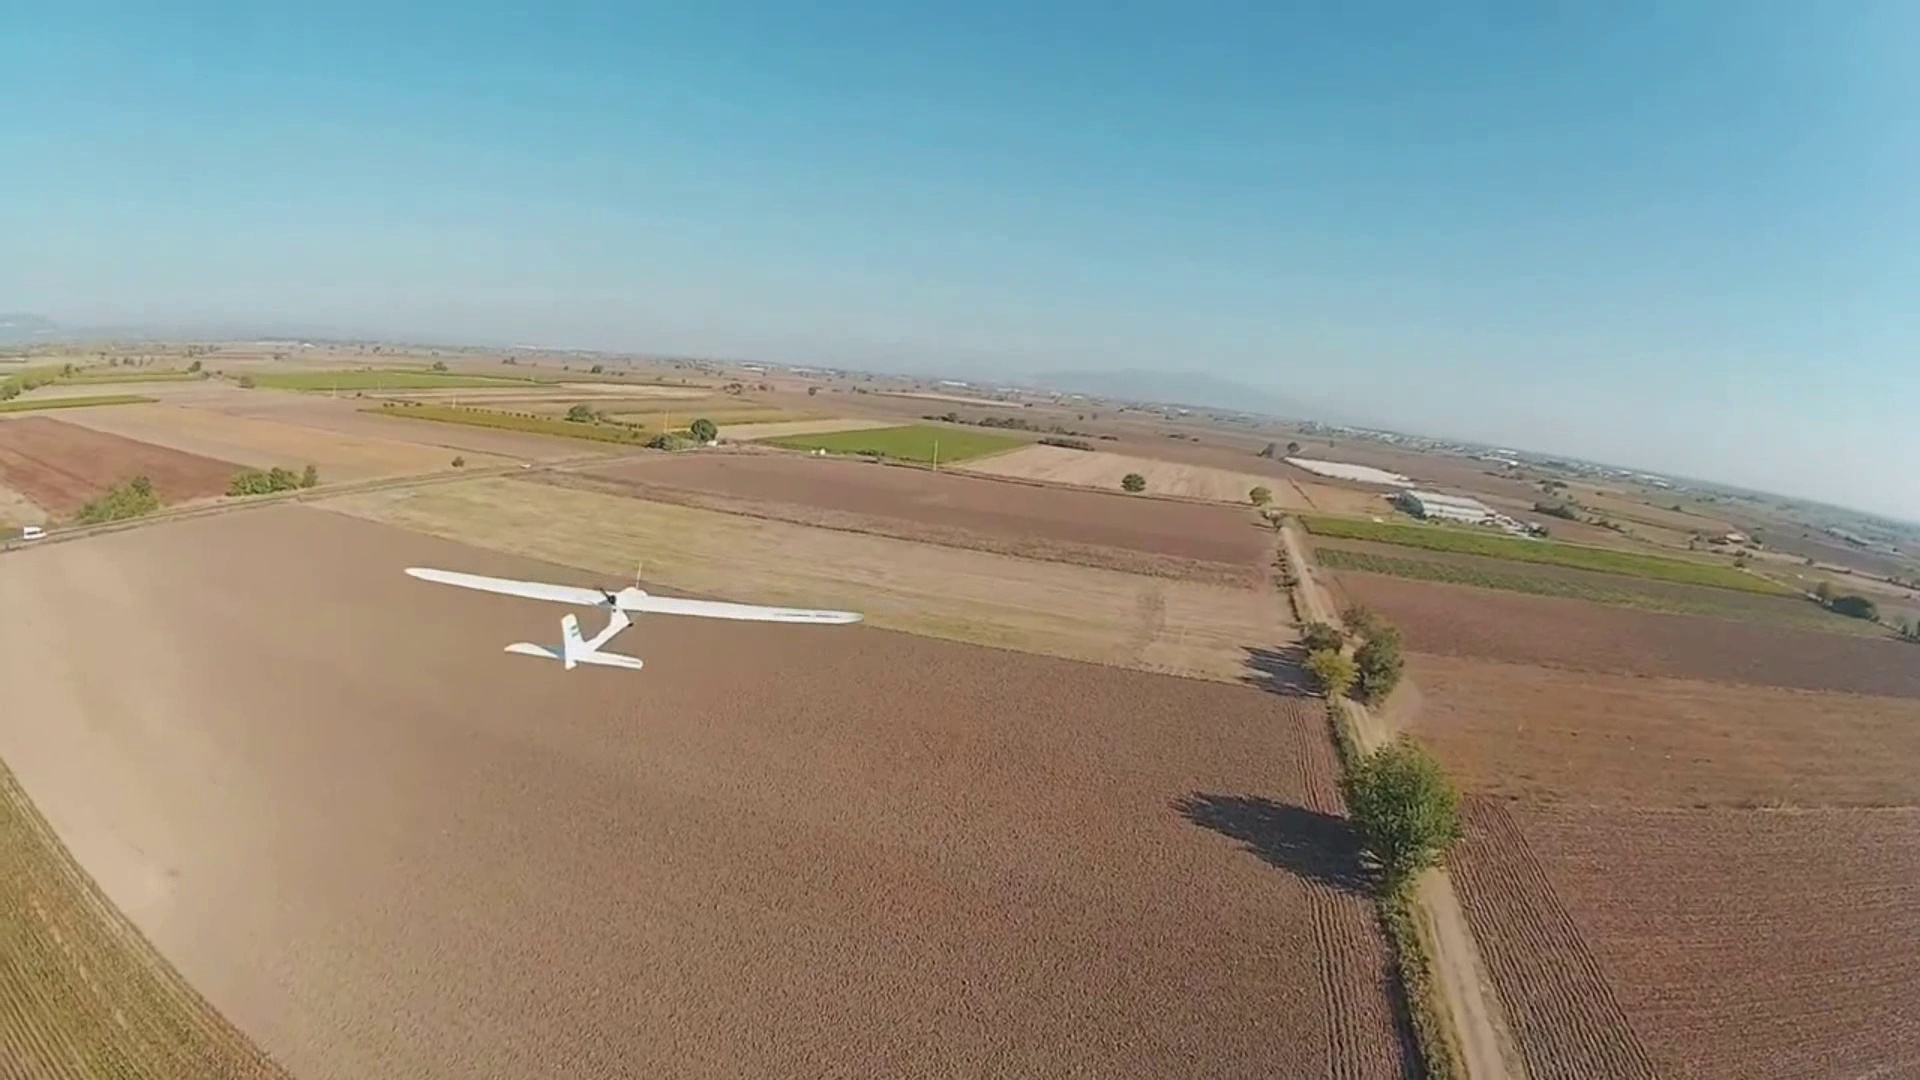airplane: (403, 564, 857, 672), (504, 585, 644, 672)
